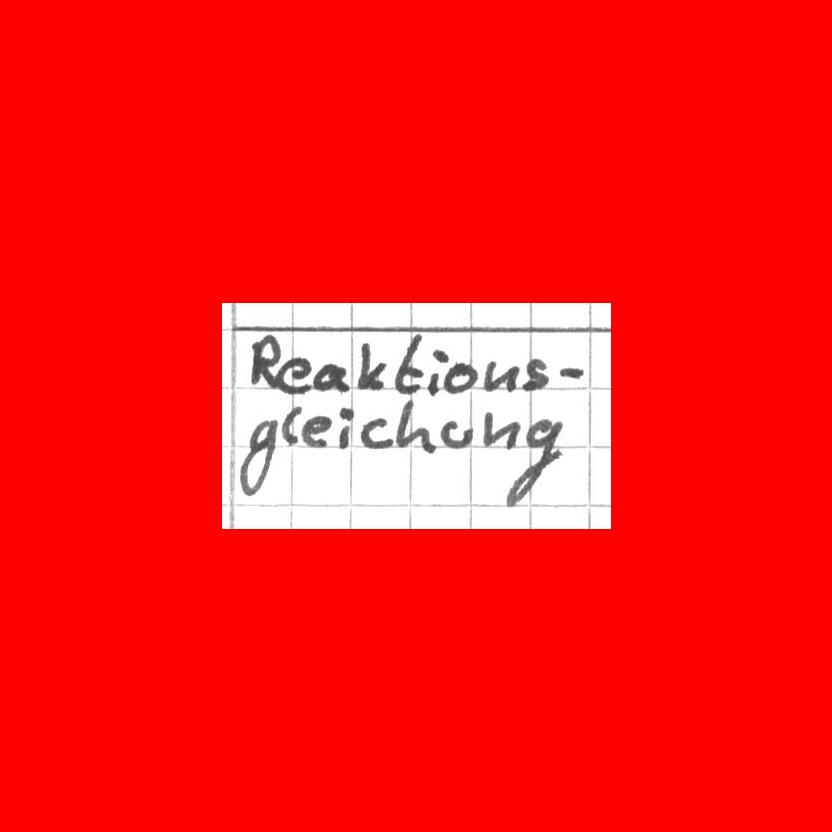Char: (505, 416, 563, 511), (237, 418, 283, 496), (392, 399, 436, 454), (391, 331, 426, 399), (247, 330, 282, 388), (354, 339, 389, 393), (479, 409, 522, 451), (482, 357, 518, 394), (425, 345, 450, 398), (278, 356, 311, 396), (313, 359, 349, 395), (278, 402, 304, 450), (444, 358, 476, 395), (439, 417, 472, 452), (361, 414, 392, 451), (302, 411, 332, 449), (523, 355, 549, 391), (336, 405, 356, 451), (558, 363, 586, 382)
